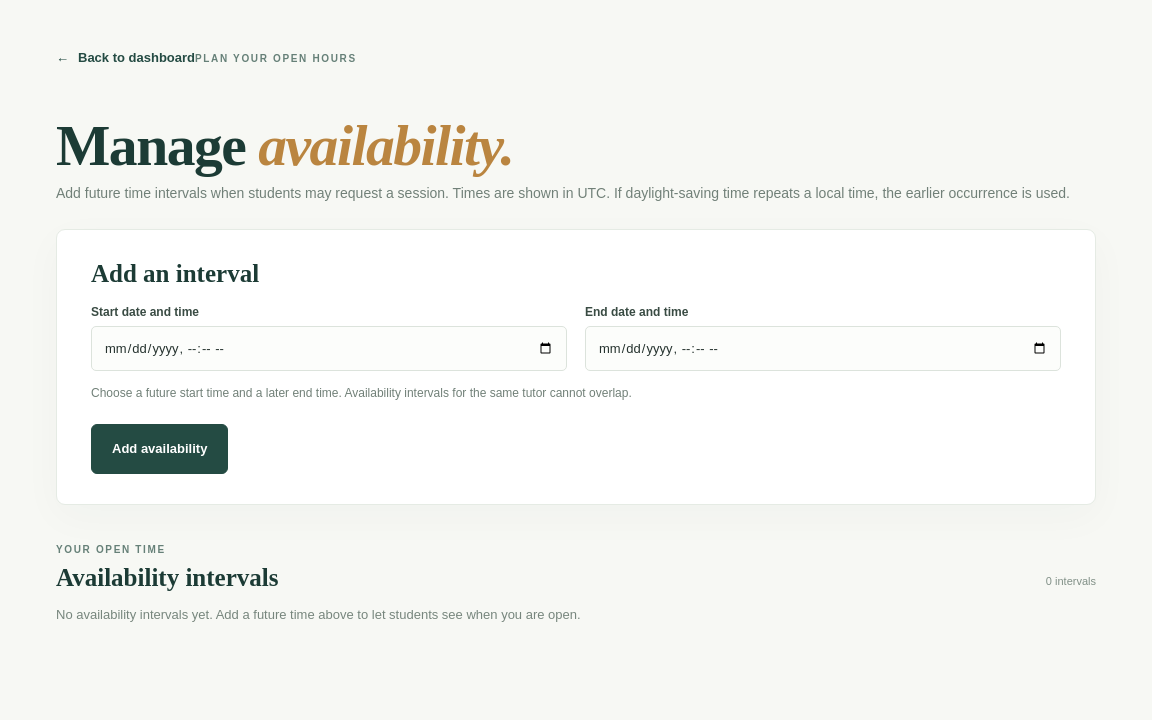
Test case: tutor availability page › shows validation errors and preserves entered values when saving fails
This screenshot has width=1152, height=720.
Expected: the text "No availability intervals yet" is shown, [56,606,581,622]
Type "2099-08-11T08:30" into the field labelled "Start date and time" at (329, 349), box [91,326,567,371]
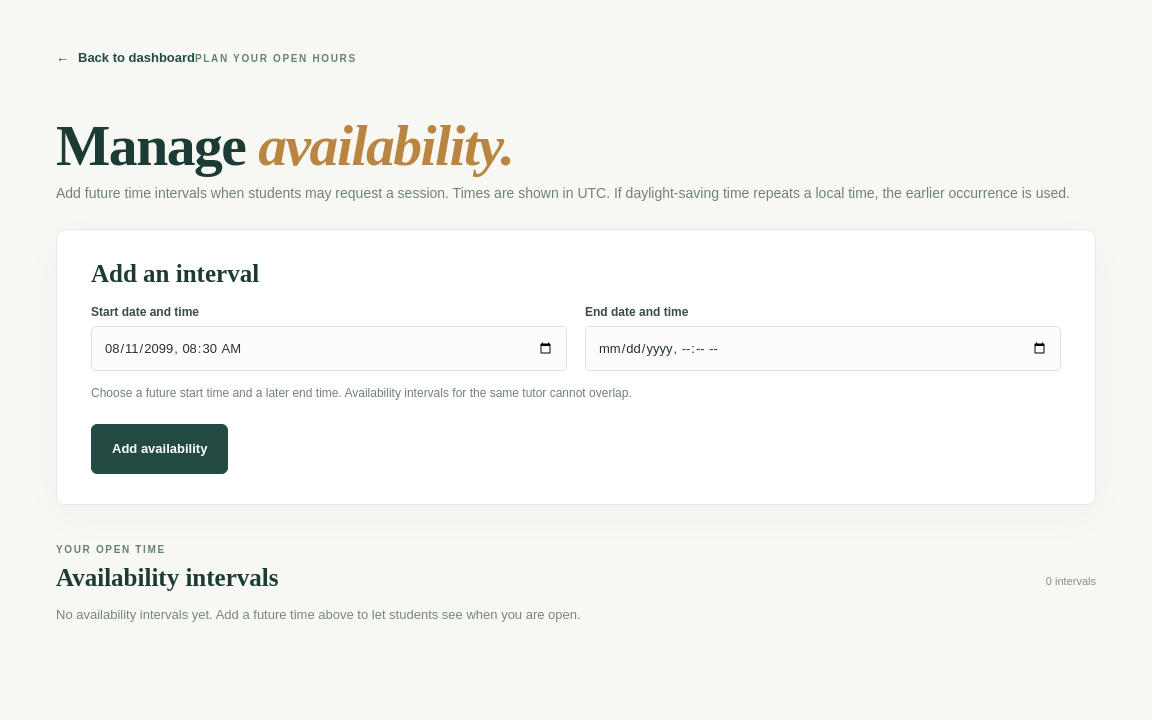
Type "2099-08-11T09:30" into the field labelled "End date and time" at (823, 349), box [585,326,1061,371]
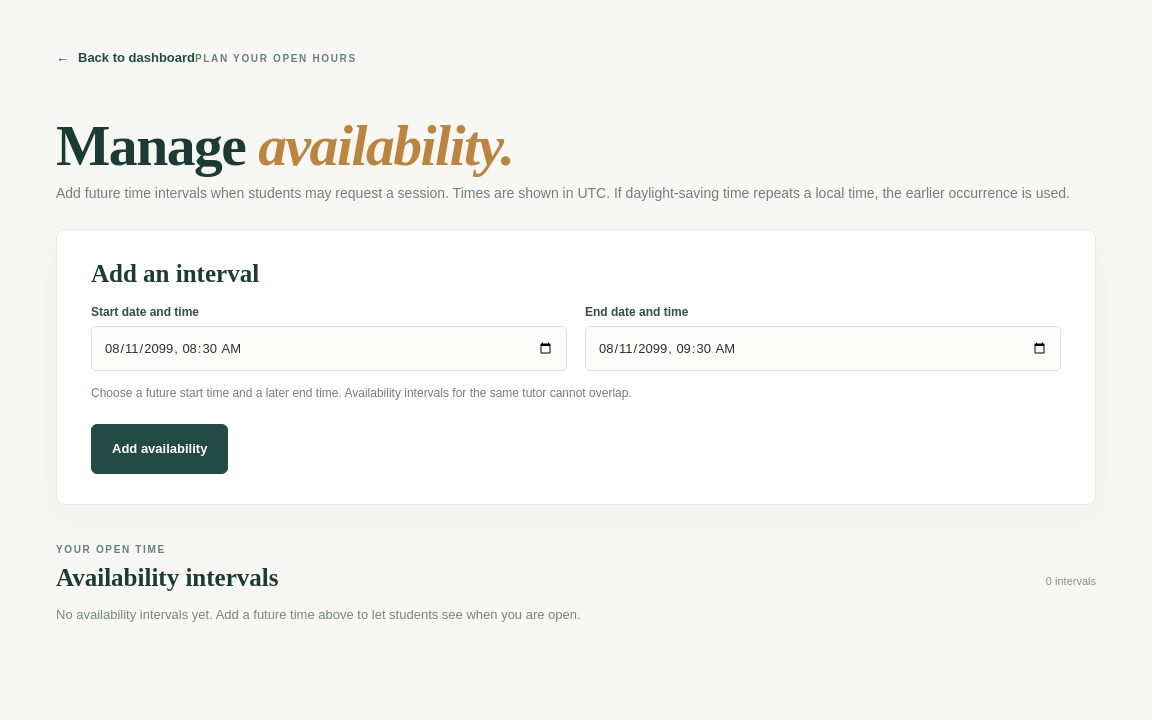
Click the button "Add availability" at (160, 448), box [91,424,228,474]
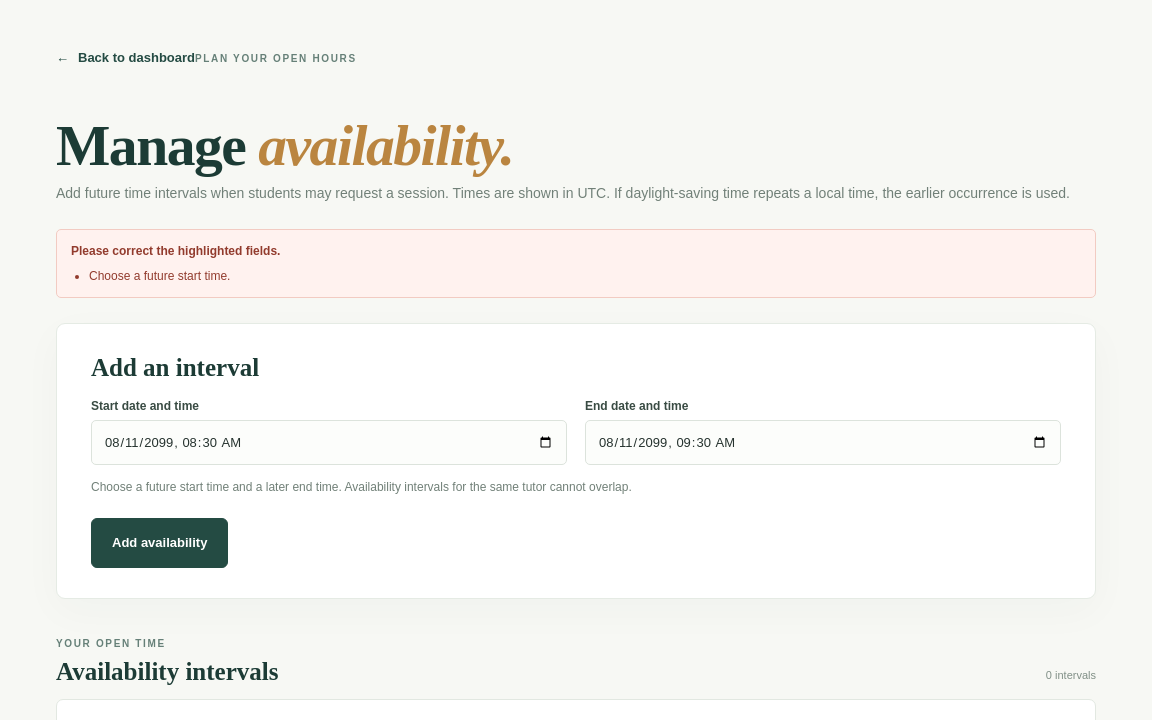
Expected: the message shows "Choose a future start time.", [89,269,230,283]
